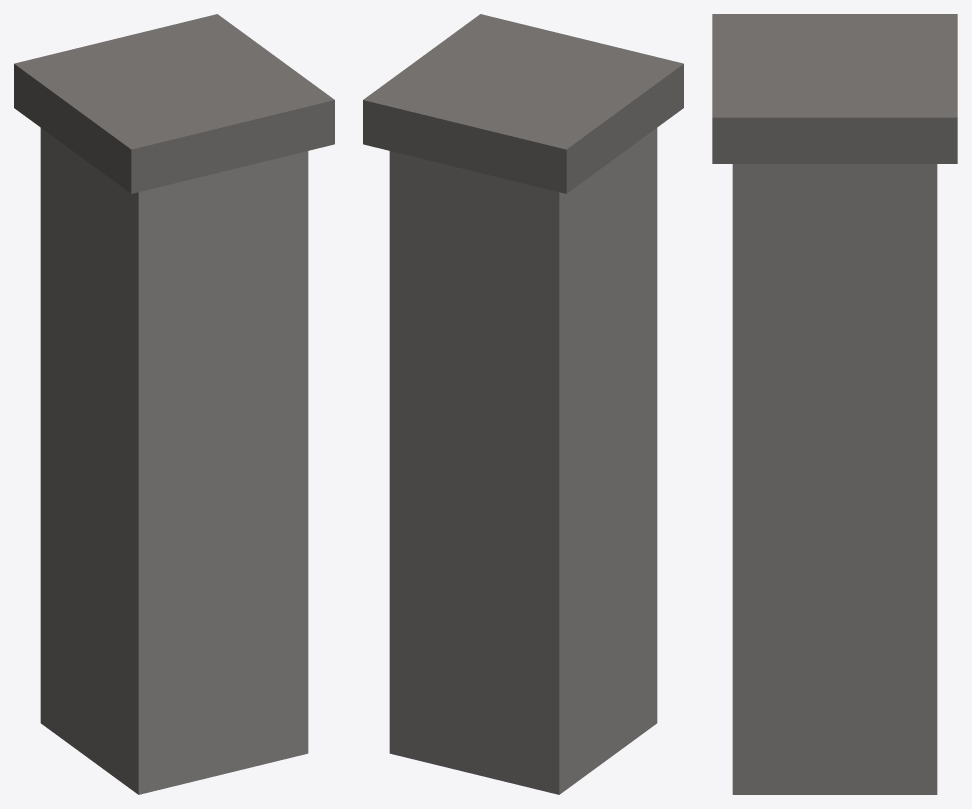
File: SM_Bldg_City_Apartment_Fence_04_Column.fbx
3 views of the same model, side by side, from view 1: azimuth 30°, elevation 25°; view 2: azimuth 150°, elevation 25°; view 3: azimuth 270°, elevation 25° (orthographic). The views are drawn at different scales.
Visible parts, largest first — view 1: SM_Bldg_City_Apartment_Fence_04_Column; view 2: SM_Bldg_City_Apartment_Fence_04_Column; view 3: SM_Bldg_City_Apartment_Fence_04_Column.
Part boxes in pixels (x1,y1,x2,y2): SM_Bldg_City_Apartment_Fence_04_Column: (14,14,334,794); SM_Bldg_City_Apartment_Fence_04_Column: (363,14,683,794); SM_Bldg_City_Apartment_Fence_04_Column: (712,14,957,794).
Bounding box in the file's own units: 28.8 × 88.8 × 28.8.
